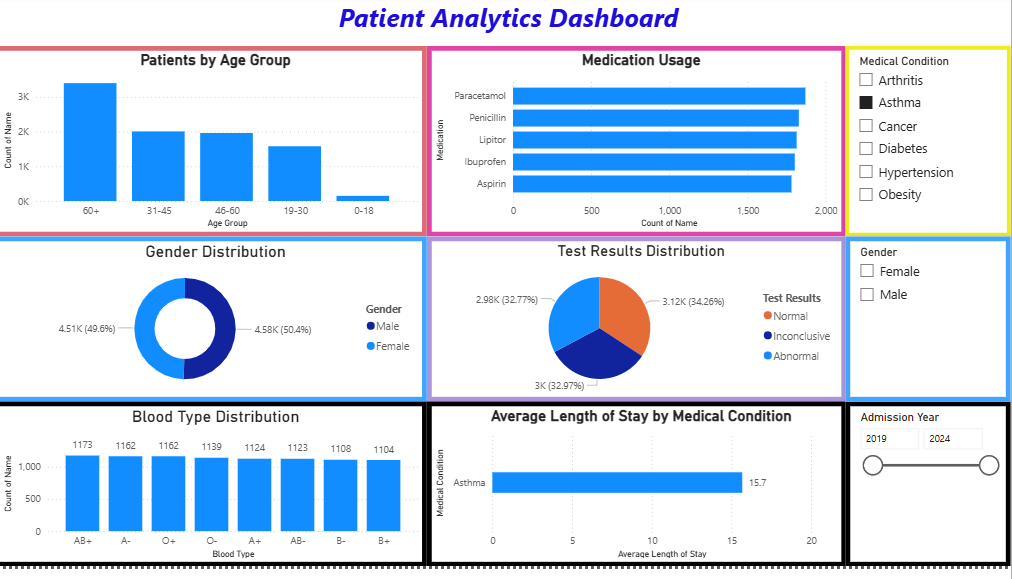

The page's visual inventory and layout, read from the dashboard file:
{"tool":"powerbi","page":{"name":"Page 2","canvas":[1280,720],"ordinal":1},"visuals":[{"type":"textbox","box":[16,0,1264,64],"z":0},{"type":"clusteredColumnChart","title":"Patients by Age Group","fields":{"Category":["healthcare_cleaned.Age Group"],"Y":["CountNonNull(healthcare_cleaned.Name)"]},"box":[0,64,544,240],"z":1},{"type":"donutChart","title":"Gender Distribution","fields":{"Category":["healthcare_cleaned.Gender"],"Y":["CountNonNull(healthcare_cleaned.Name)"]},"box":[0,304,544,208],"z":2},{"type":"columnChart","title":"Blood Type Distribution","fields":{"Category":["healthcare_cleaned.Blood Type"],"Y":["CountNonNull(healthcare_cleaned.Name)"]},"box":[0,512,544,208],"z":3},{"type":"clusteredBarChart","title":"Medication Usage","fields":{"Category":["healthcare_cleaned.Medication"],"Y":["CountNonNull(healthcare_cleaned.Name)"]},"box":[544,64,528,240],"z":4},{"type":"pieChart","title":"Test Results Distribution","fields":{"Category":["healthcare_cleaned.Test Results"],"Y":["CountNonNull(healthcare_cleaned.Name)"]},"box":[544,304,528,208],"z":5},{"type":"clusteredBarChart","fields":{"Category":["healthcare_cleaned.Medical Condition"],"Y":["healthcare_cleaned.Average Length of Stay"]},"box":[544,512,528,208],"z":6},{"type":"slicer","fields":{"Values":["healthcare_cleaned.Medical Condition"]},"box":[1072,64,208,240],"z":7},{"type":"slicer","fields":{"Values":["healthcare_cleaned.Gender"]},"box":[1072,304,208,208],"z":8},{"type":"slicer","fields":{"Values":["healthcare_cleaned.Admission Year"]},"box":[1072,512,208,208],"z":9}]}

Visuals, with their boxes in screenshot pixels (x1, y1, x2, y2), scaled from the page's 1280x720 canvas onto the 1012x579 screenshot:
textbox: 13, 0, 1011, 51
"Patients by Age Group" clusteredColumnChart: 0, 51, 430, 244
"Gender Distribution" donutChart: 0, 244, 430, 412
"Blood Type Distribution" columnChart: 0, 412, 430, 578
"Medication Usage" clusteredBarChart: 430, 51, 848, 244
"Test Results Distribution" pieChart: 430, 244, 848, 412
clusteredBarChart - healthcare_cleaned.Medical Condition x healthcare_cleaned.Average Length of Stay: 430, 412, 848, 578
slicer - healthcare_cleaned.Medical Condition: 848, 51, 1011, 244
slicer - healthcare_cleaned.Gender: 848, 244, 1011, 412
slicer - healthcare_cleaned.Admission Year: 848, 412, 1011, 578
